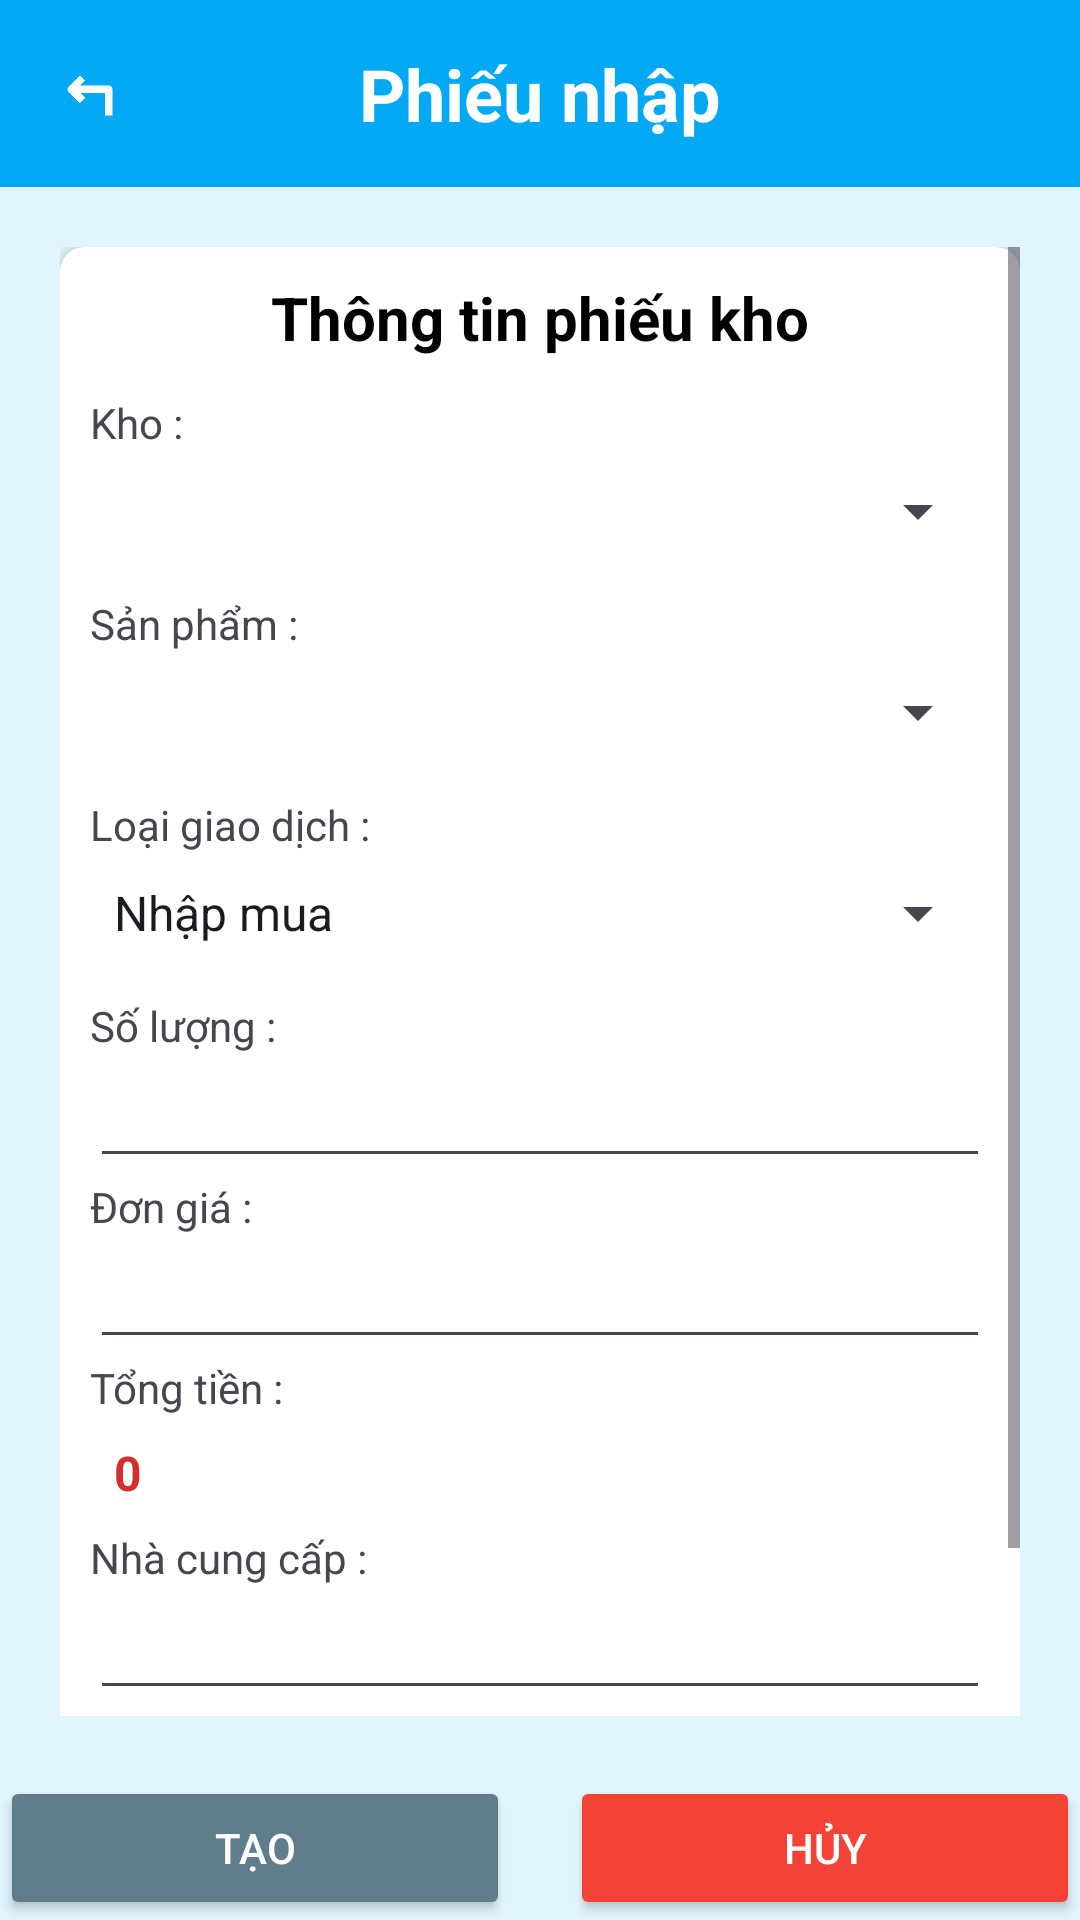

Named icons in this screenshot (1080px x 1920px) and their centers, [x,y]:
arrow back: [90,96]
